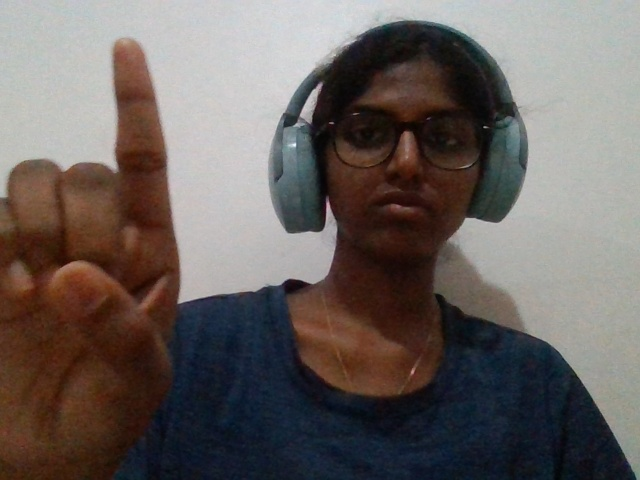D: (2, 21, 212, 475)
